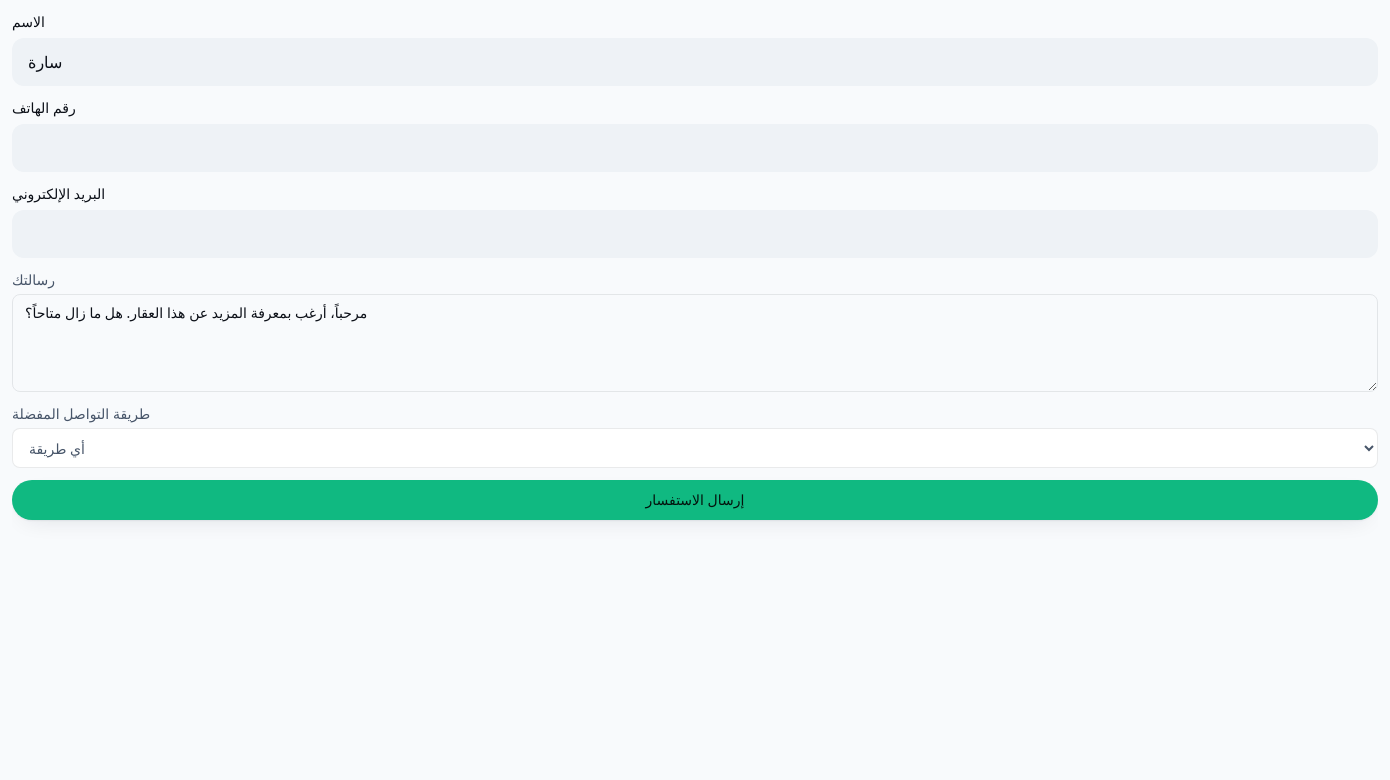
InquiryForm › requires a phone or email before sending
This screenshot has width=1390, height=780.
What coordinates should you click on to do the following:
click the button "إرسال الاستفسار"
I would click on:
 (695, 500)
Its box is x1=12 y1=480 x2=1378 y2=520.
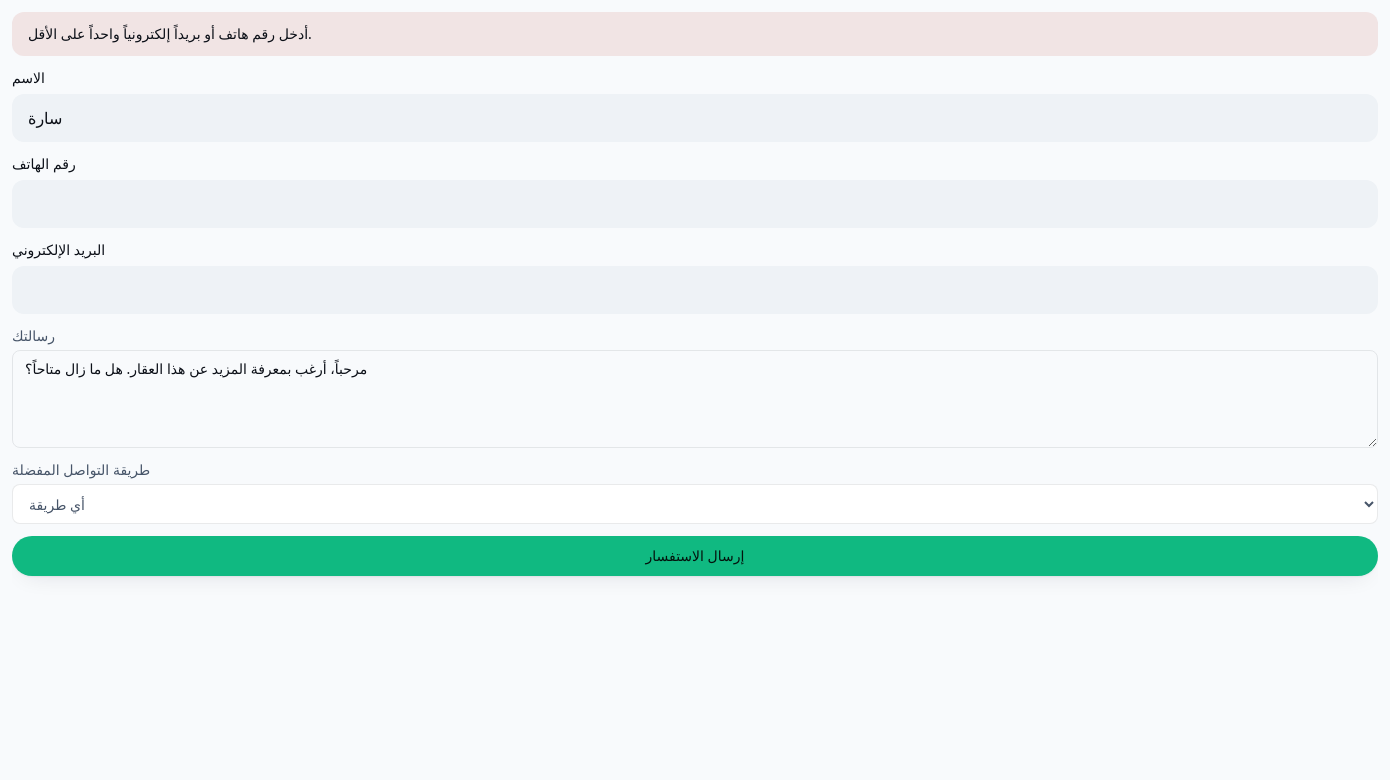
Check: the text "أدخل رقم هاتف أو بريداً إلكترونياً واحداً على الأقل." is shown, box x1=28 y1=24 x2=312 y2=43
